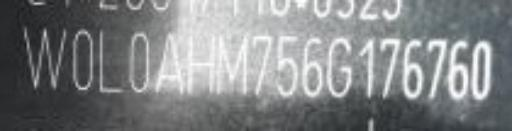letter: (19, 24, 67, 91), (217, 29, 251, 96), (186, 29, 216, 98), (154, 31, 184, 98), (324, 34, 352, 101), (127, 27, 153, 96), (97, 29, 123, 96), (275, 32, 299, 101), (300, 32, 324, 101), (468, 38, 494, 101), (70, 26, 94, 91), (378, 36, 402, 99), (402, 38, 426, 101), (426, 36, 448, 101), (448, 38, 470, 101), (252, 31, 272, 98), (356, 36, 376, 99)
